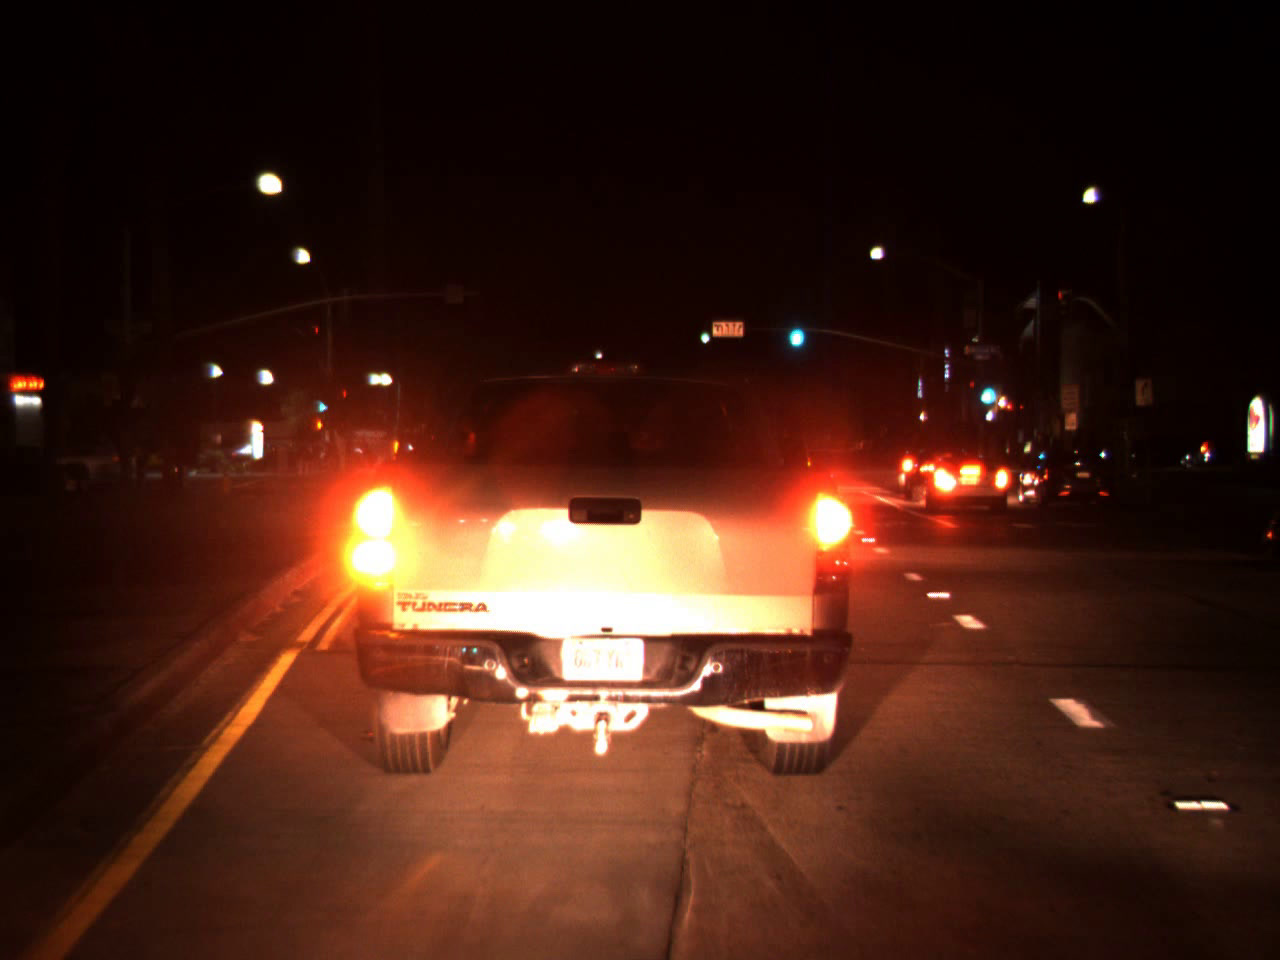go: (783, 306, 806, 354), (975, 368, 998, 410), (698, 319, 710, 346), (317, 393, 327, 414)
